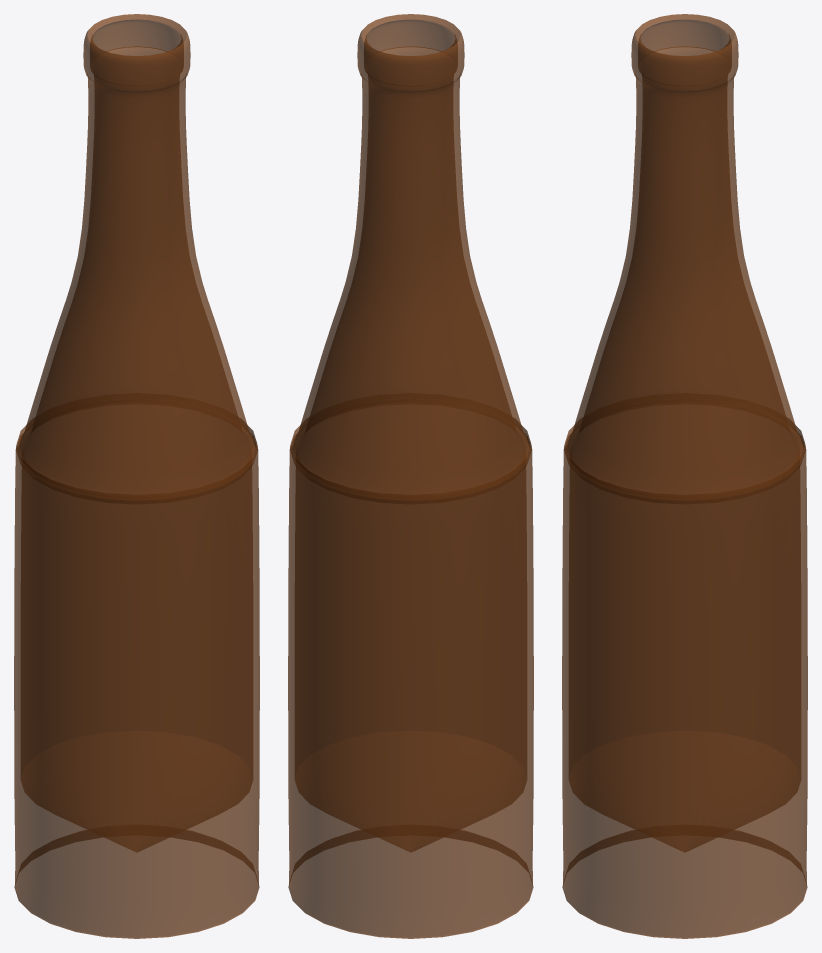
The model's file is bottle_longneck_355ml.mid.glb.
The picture shows the model from 3 angles, left to right: view 1: azimuth 30°, elevation 25°; view 2: azimuth 150°, elevation 25°; view 3: azimuth 270°, elevation 25°; orthographic projection.
Parts seen in each view (by area): view 1: bottle_longneck_355ml; view 2: bottle_longneck_355ml; view 3: bottle_longneck_355ml.
Part boxes in pixels (x1,y1,x2,y2): bottle_longneck_355ml: [14, 14, 259, 938]; bottle_longneck_355ml: [288, 14, 533, 938]; bottle_longneck_355ml: [562, 14, 807, 938].
Bounding box in the file's own units: 0.0616 × 0.2355 × 0.0616.
